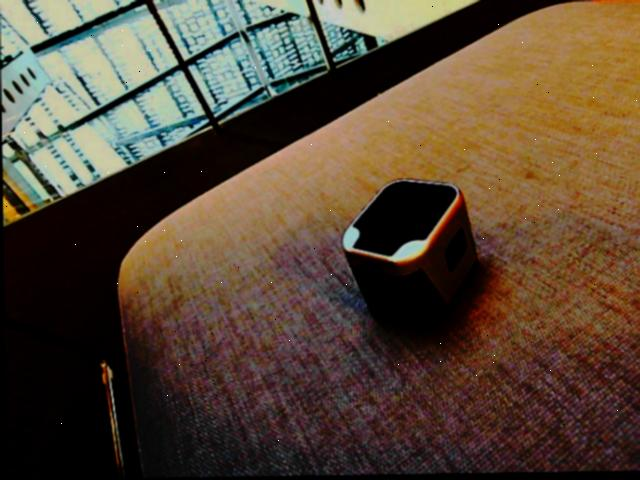adapter: (340, 177, 478, 333)
